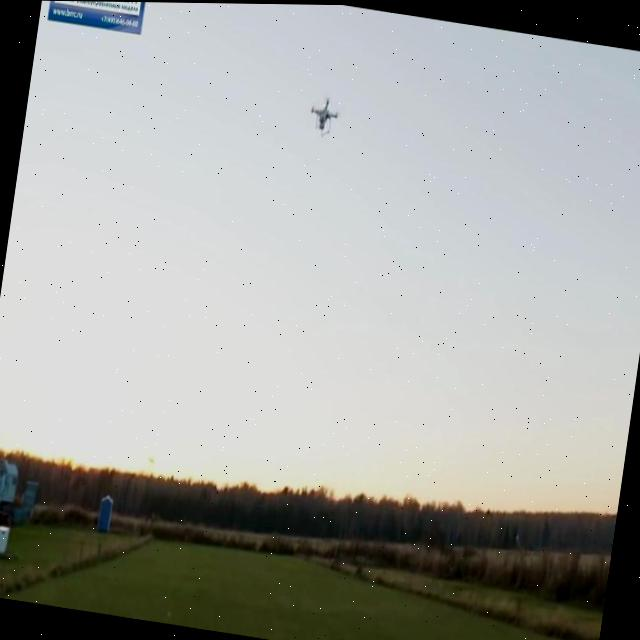drone: (307, 91, 343, 139)
